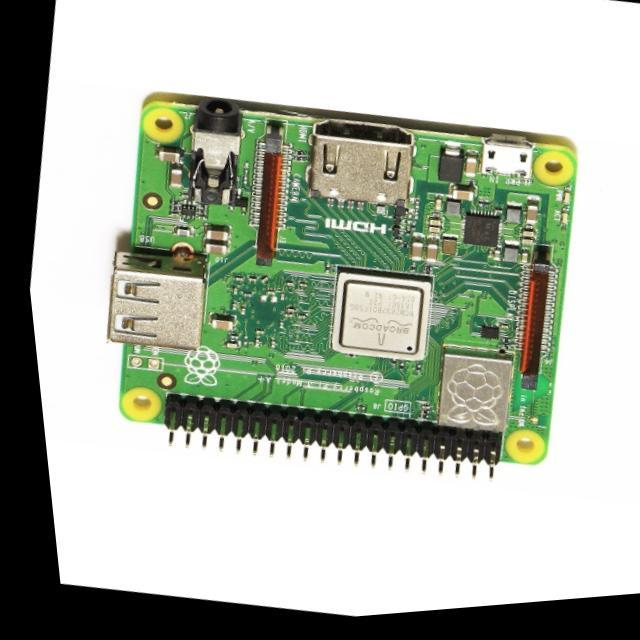Raspberry-Pi-3-A-: (109, 94, 577, 476)
